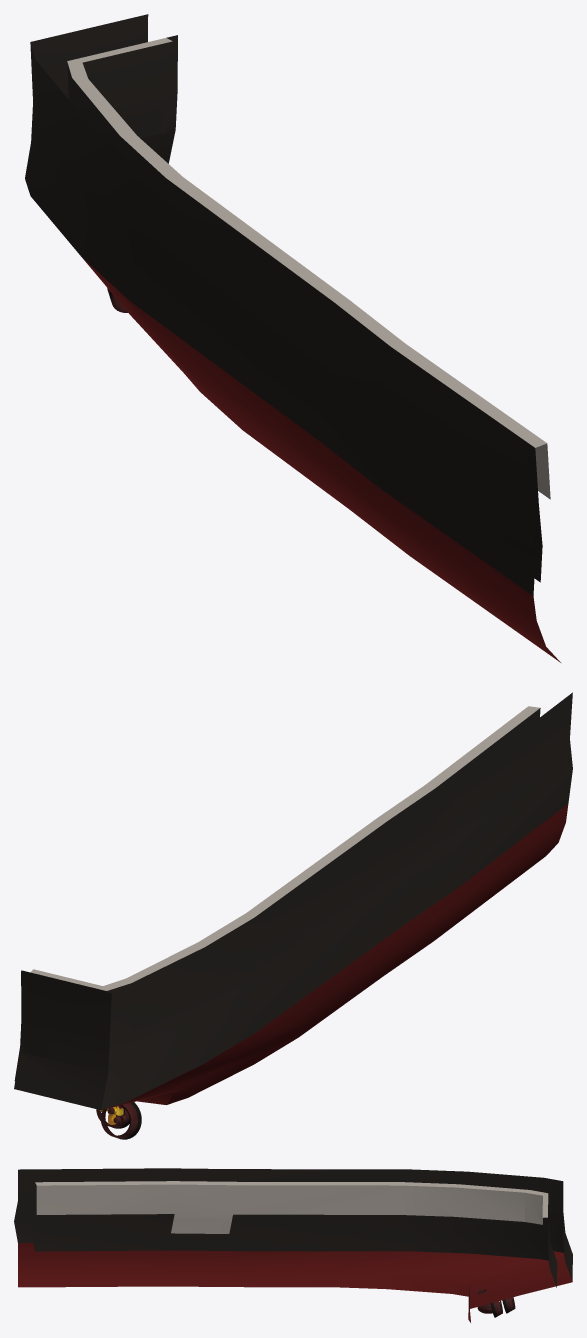
File: container_ship_back_stern.glb
The picture shows the model from 3 angles, top to bottom: view 1: azimuth 30°, elevation 25°; view 2: azimuth 150°, elevation 25°; view 3: azimuth 270°, elevation 25°; orthographic projection. The views are drawn at different scales.
Parts seen in each view (by area): view 1: ellipse_005_acmat_50_0.004, ellipse_21_acmat_37_002_0.004, ellipse_005_acmat_50_0.001, ellipse_004_acmat_24_002_0.001; view 2: ellipse_005_acmat_50_0.004, ellipse_21_acmat_37_002_0.004, ellipse_004_acmat_24_002_0.001, ellipse_005_acmat_50_0.001, cylinder_026_acmat_5_004_0.177; view 3: ellipse_21_acmat_37_002_0.004, ellipse_005_acmat_50_0.001, ellipse_004_acmat_24_002_0.001, ellipse_005_acmat_50_0.004.
Part boxes in pixels (<box>): ellipse_005_acmat_50_0.004: <box>25,14,535,595</box>; ellipse_21_acmat_37_002_0.004: <box>83,258,560,662</box>; ellipse_005_acmat_50_0.001: <box>67,35,542,582</box>; ellipse_004_acmat_24_002_0.001: <box>67,38,549,492</box>; ellipse_005_acmat_50_0.004: <box>14,692,572,1110</box>; ellipse_21_acmat_37_002_0.004: <box>104,804,568,1109</box>; ellipse_004_acmat_24_002_0.001: <box>30,706,540,990</box>; ellipse_005_acmat_50_0.001: <box>14,708,540,1080</box>; cylinder_026_acmat_5_004_0.177: <box>100,1102,141,1139</box>; ellipse_21_acmat_37_002_0.004: <box>18,1243,572,1322</box>; ellipse_005_acmat_50_0.001: <box>31,1183,557,1287</box>; ellipse_004_acmat_24_002_0.001: <box>35,1181,548,1233</box>; ellipse_005_acmat_50_0.004: <box>14,1168,572,1281</box>.
Size of the model in its own units: 3.39 by 4.2 by 17.72.
Materials: 9 (9 with a texture image).
